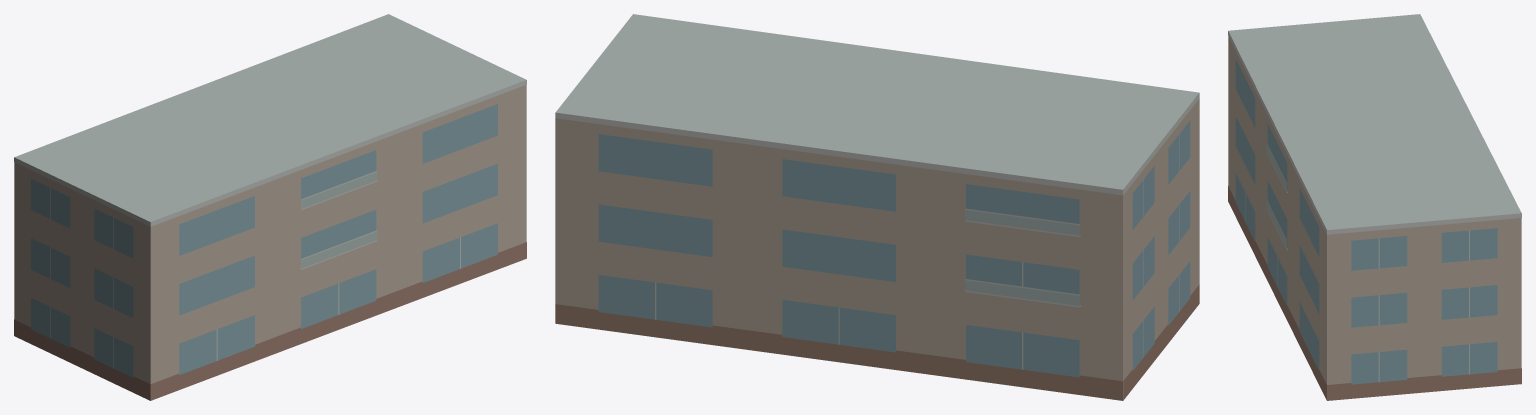
The model's file is survey-upis-32614425.glb.
3 views of the same model, side by side, from view 1: azimuth 30°, elevation 25°; view 2: azimuth 150°, elevation 25°; view 3: azimuth 270°, elevation 25° (orthographic). The views are drawn at different scales.
Visible parts, largest first — view 1: survey-upis-32614425.tmp; view 2: survey-upis-32614425.tmp; view 3: survey-upis-32614425.tmp.
Part boxes in pixels (x1,y1,x2,y2): survey-upis-32614425.tmp: (14, 14, 526, 400); survey-upis-32614425.tmp: (555, 14, 1199, 400); survey-upis-32614425.tmp: (1228, 14, 1521, 400).
Size of the model in its own units: 24.85 by 9.15 by 14.27.
